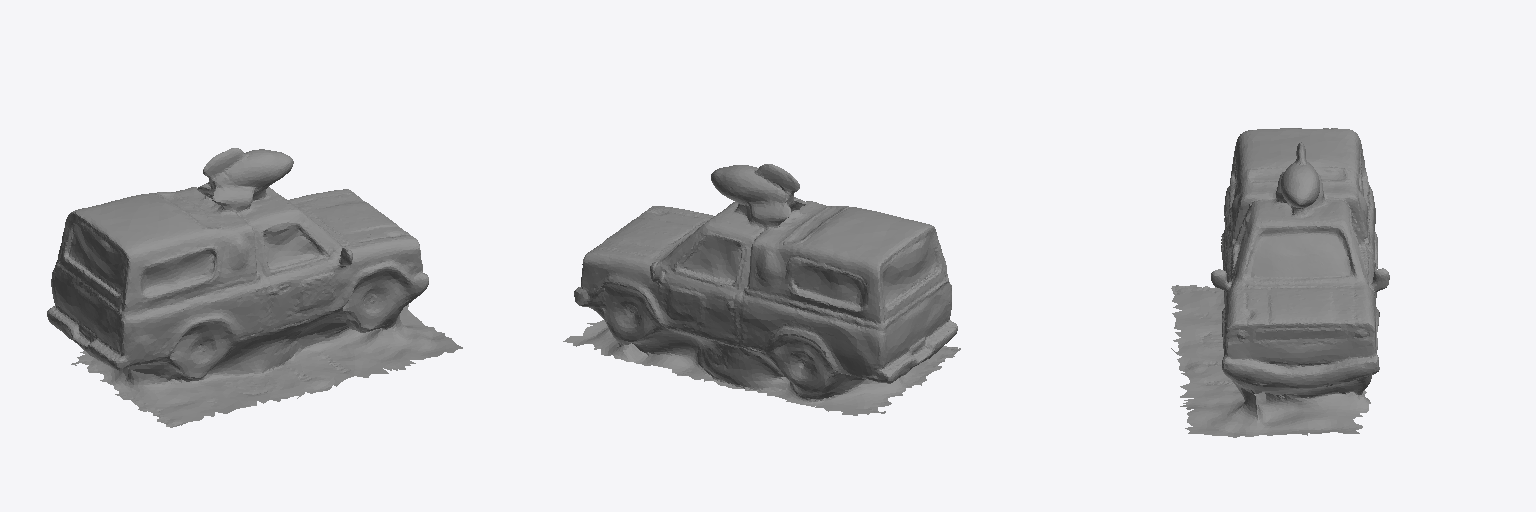
File: camiona_pizza_planeta.obj
3 renders of one model, left to right at view 1: azimuth 30°, elevation 25°; view 2: azimuth 150°, elevation 25°; view 3: azimuth 270°, elevation 25°, orthographic.
Visible parts, largest first — view 1: Mesh_0; view 2: Mesh_0; view 3: Mesh_0.
Part boxes in pixels (bbox=[...]): Mesh_0: bbox=[47, 148, 462, 427]; Mesh_0: bbox=[563, 164, 960, 415]; Mesh_0: bbox=[1171, 128, 1389, 437].
Size of the model in its own units: 0.8509 by 0.5 by 0.4831.